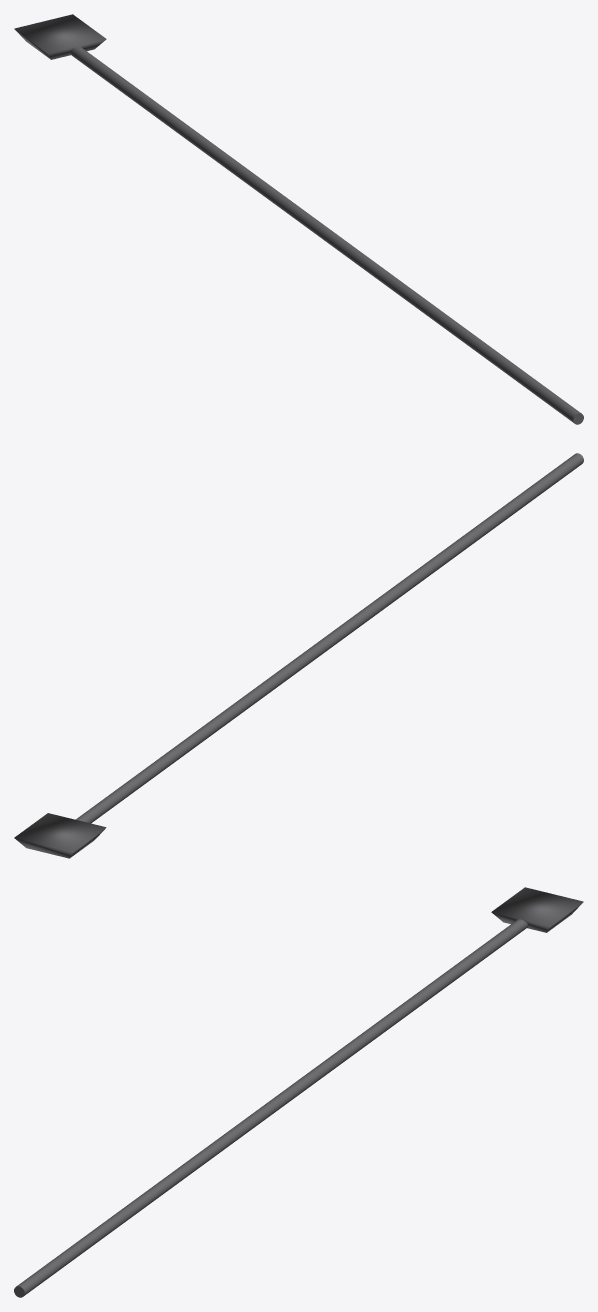
The model's file is トルコアイス_ロッド.fbx.
3 views of the same model, one above another, from view 1: azimuth 30°, elevation 25°; view 2: azimuth 150°, elevation 25°; view 3: azimuth 330°, elevation 25° (orthographic).
Visible parts, largest first — view 1: トルコアイス_ロッド; view 2: トルコアイス_ロッド; view 3: トルコアイス_ロッド.
Part boxes in pixels (x1,y1,x2,y2): トルコアイス_ロッド: (14,14,583,424); トルコアイス_ロッド: (14,453,583,858); トルコアイス_ロッド: (14,887,583,1297).
Size of the model in its own units: 0.0361 by 0.00682 by 0.568.
